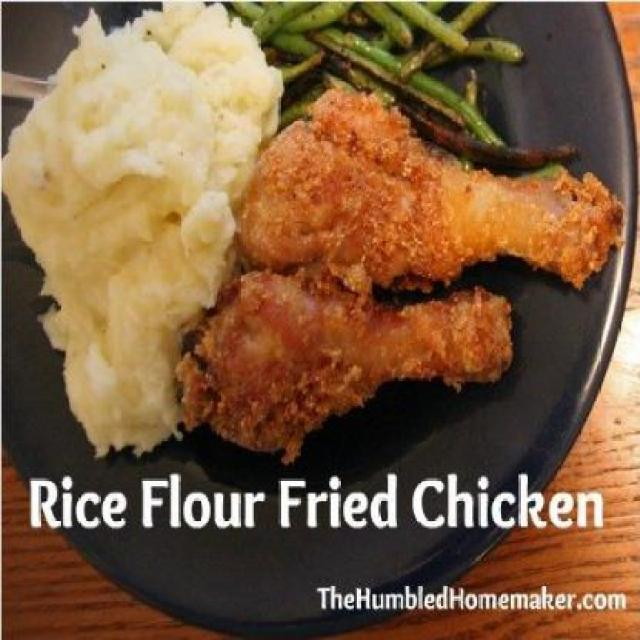Wet Waste: (240, 100, 620, 295), (183, 278, 509, 451)
